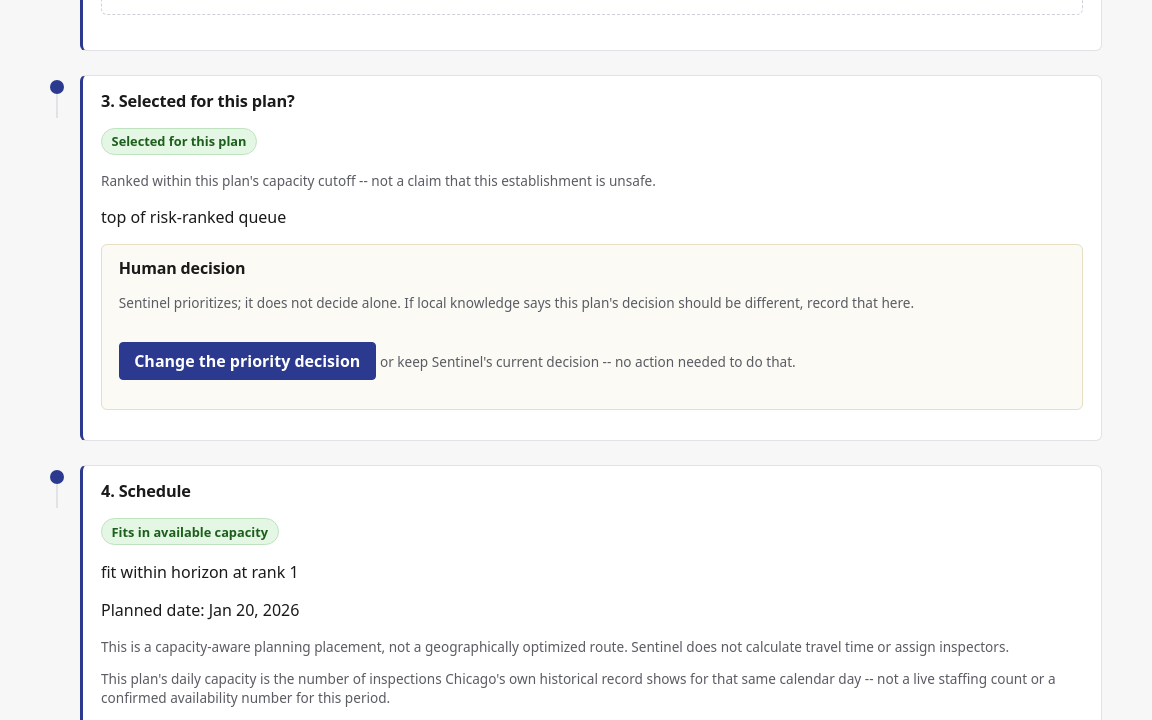
Test: EstablishmentDetailPage › lets a reviewer submit a human override, and shows it as staged, not applied
(page scrolled)
expect the text "Selected for this plan" is shown: met, box [101,128,257,154]
Click the button "Change the priority decision" at (247, 361), box [119,342,376,380]
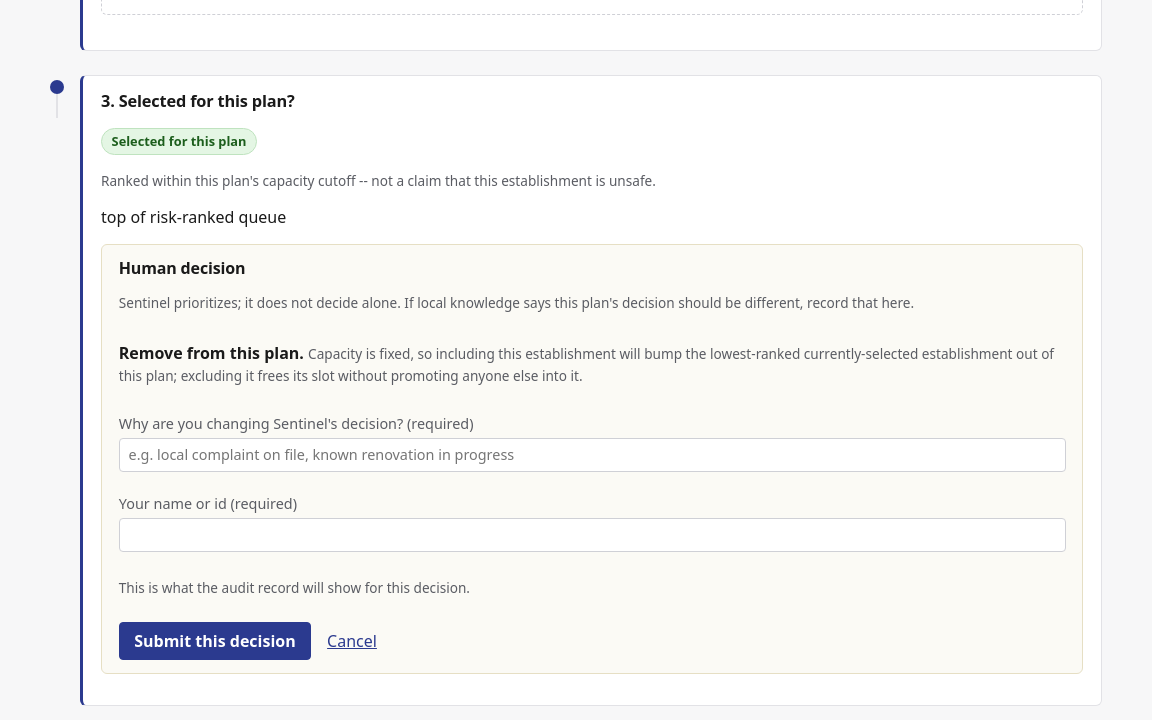
Type "local complaint" into the field labelled "Why are you changing Sentinel's decision? (required)" at (592, 455), box [119,438,1066,472]
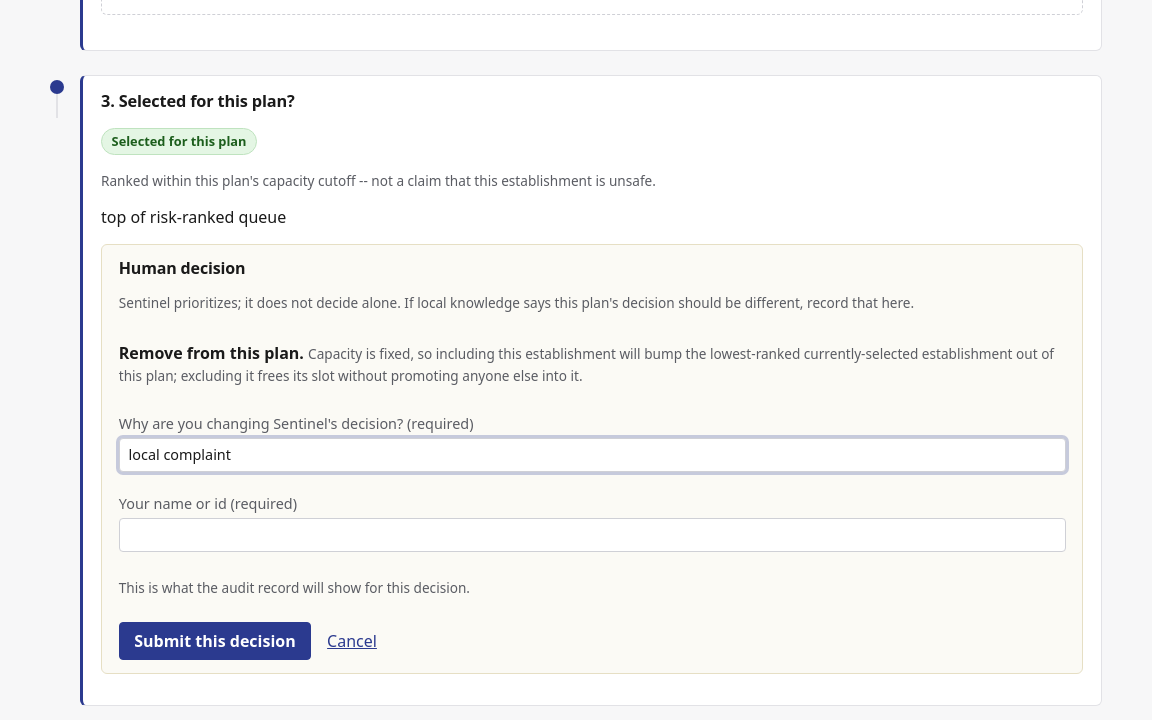
Type "jsmith" into the field labelled "Your name or id (required)" at (592, 535), box [119,518,1066,552]
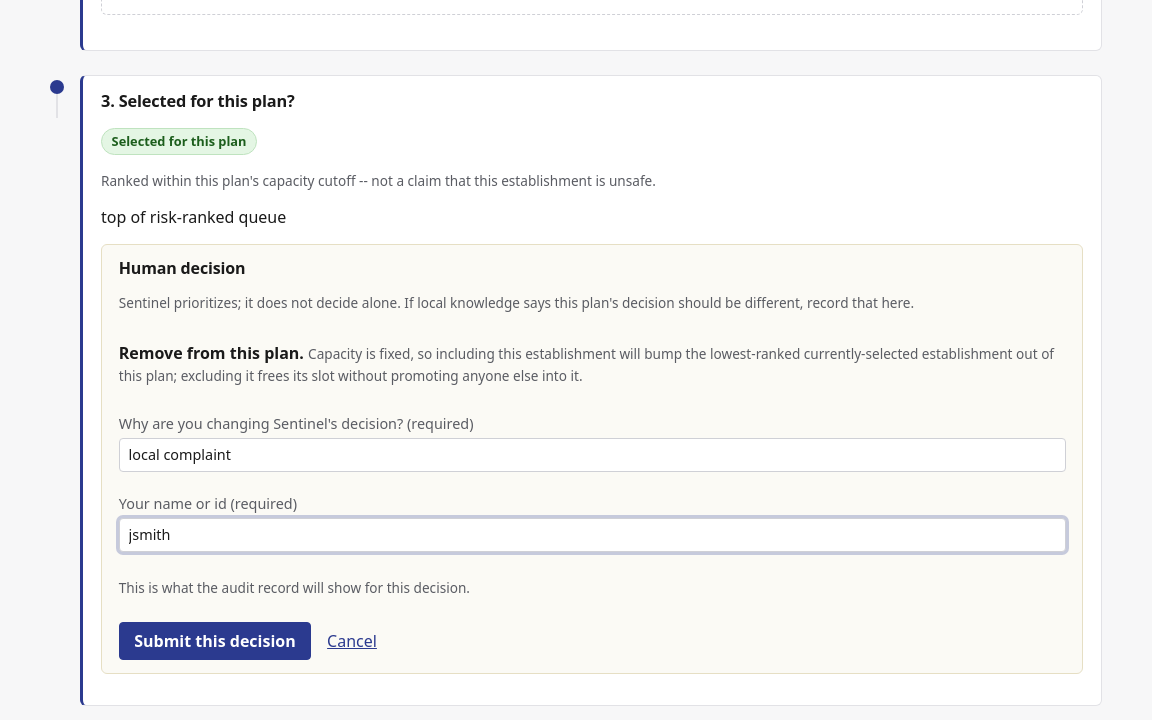
Click the button "Submit this decision" at (215, 641), box [119,622,311,660]
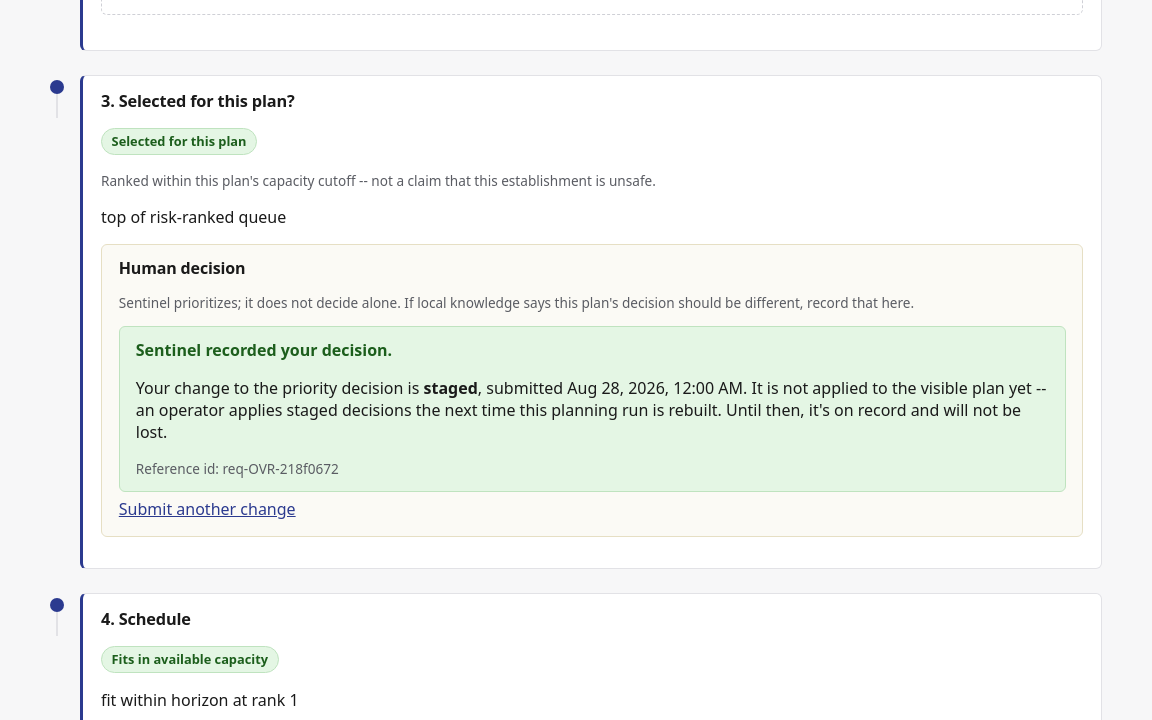
expect the text "Sentinel recorded your decision." is shown: met, box [136,339,392,361]
expect the text "staged" is shown: met, box [424,377,478,399]
